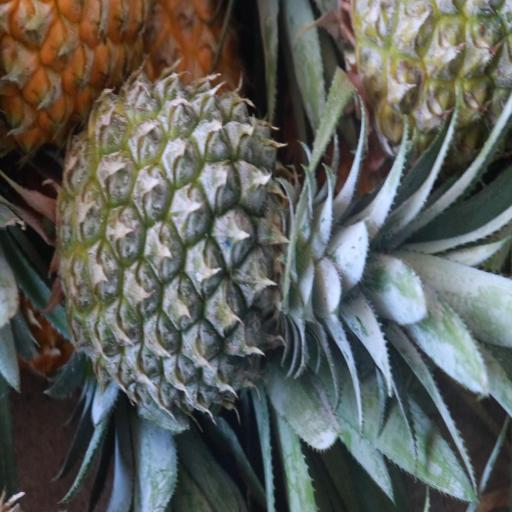Pineapple - v8 v1: (2, 0, 152, 157)
